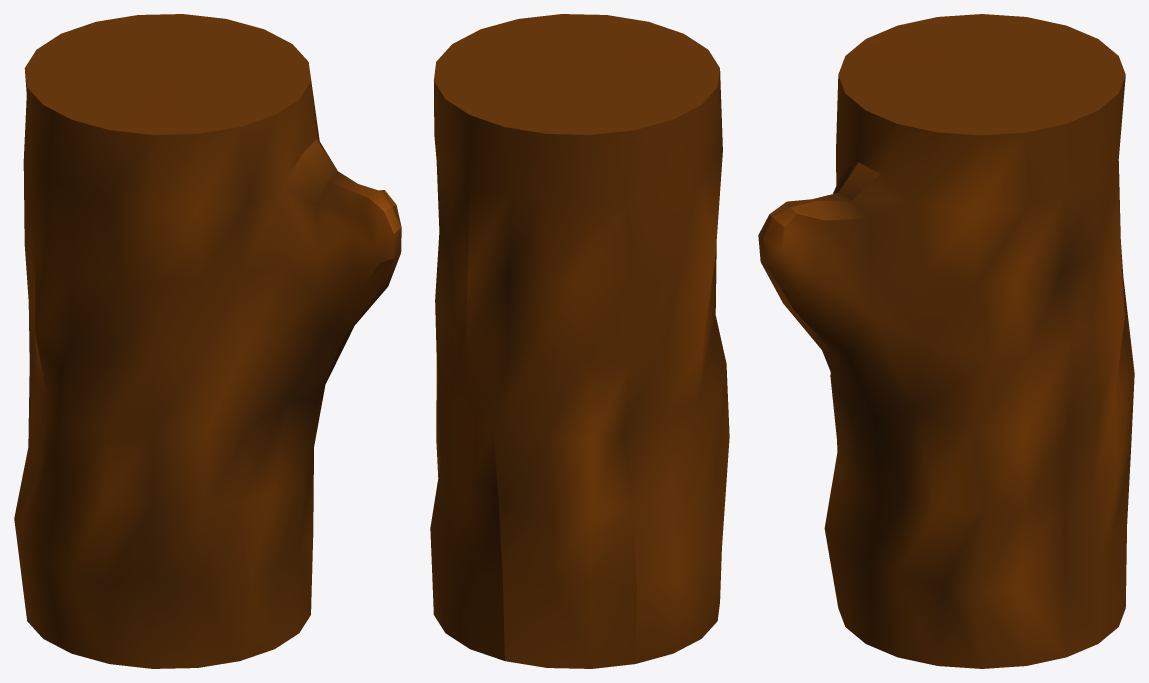
File: TreeMiddle1.fbx
The picture shows the model from 3 angles, left to right: view 1: azimuth 30°, elevation 25°; view 2: azimuth 150°, elevation 25°; view 3: azimuth 270°, elevation 25°; orthographic projection.
Parts seen in each view (by area): view 1: TreeMiddle1; view 2: TreeMiddle1; view 3: TreeMiddle1.
Boxes of the visible parts, bbox=[...] form: TreeMiddle1: bbox=[14, 14, 401, 668]; TreeMiddle1: bbox=[430, 14, 729, 668]; TreeMiddle1: bbox=[758, 14, 1134, 668].
Bounding box in the file's own units: 204 × 383 × 245.
